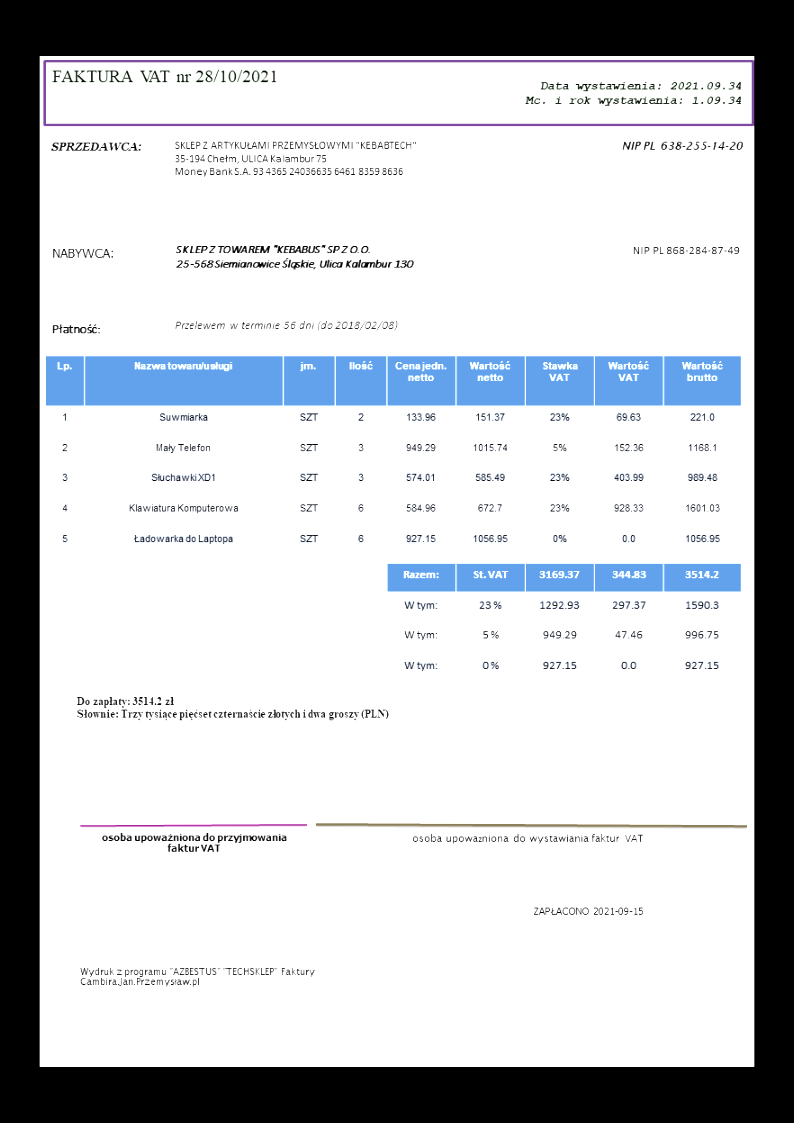Table: (44, 354, 743, 560), (385, 562, 743, 685)
TextBox: (171, 138, 419, 179), (74, 694, 390, 722), (173, 243, 415, 271), (522, 79, 744, 108), (78, 964, 317, 989), (99, 829, 290, 854), (50, 67, 279, 86), (173, 317, 399, 333), (410, 830, 644, 845), (619, 138, 744, 153), (530, 904, 644, 917), (631, 244, 741, 257), (49, 140, 143, 153), (50, 246, 114, 260), (50, 322, 103, 336)
